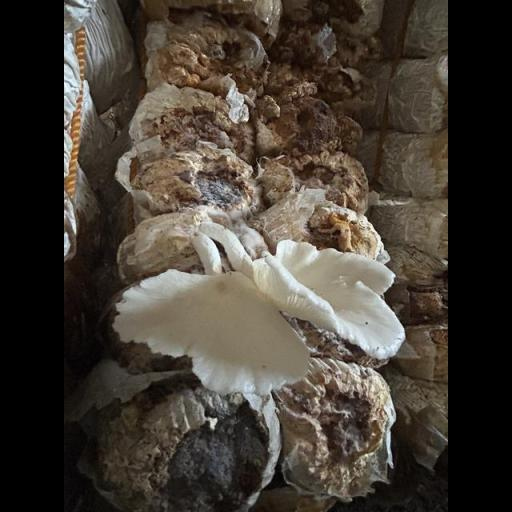White Oyster Mushroom: (105, 222, 408, 407)
